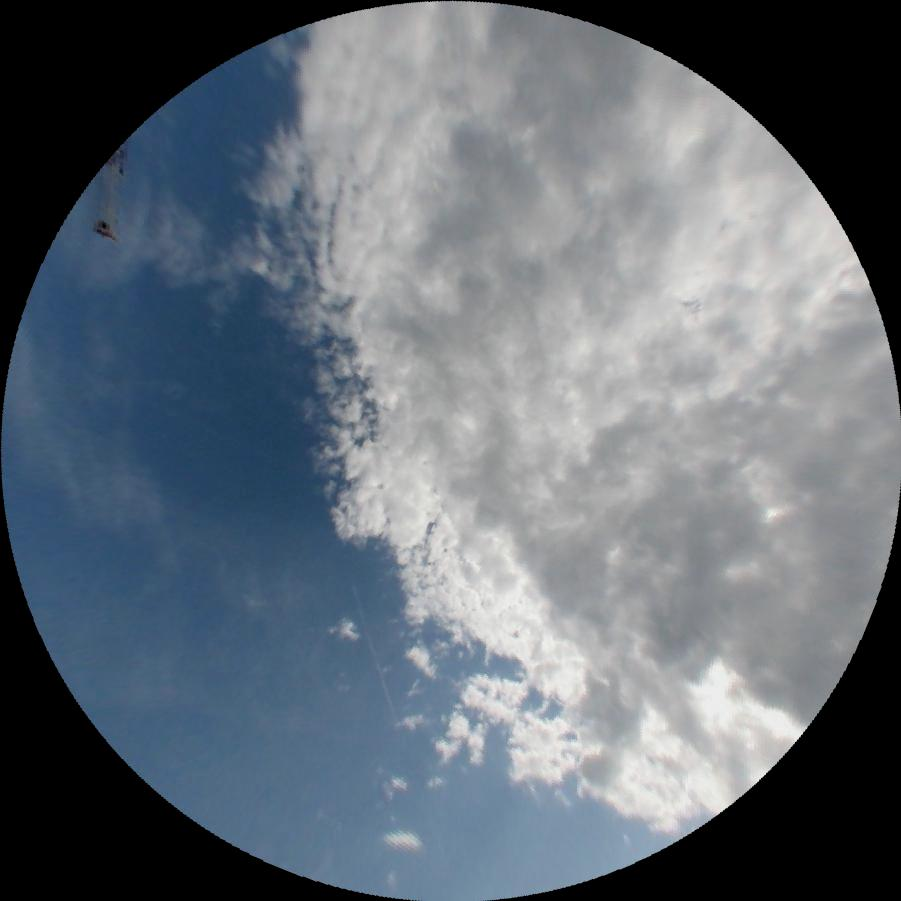contrail young: (349, 582, 397, 720)
